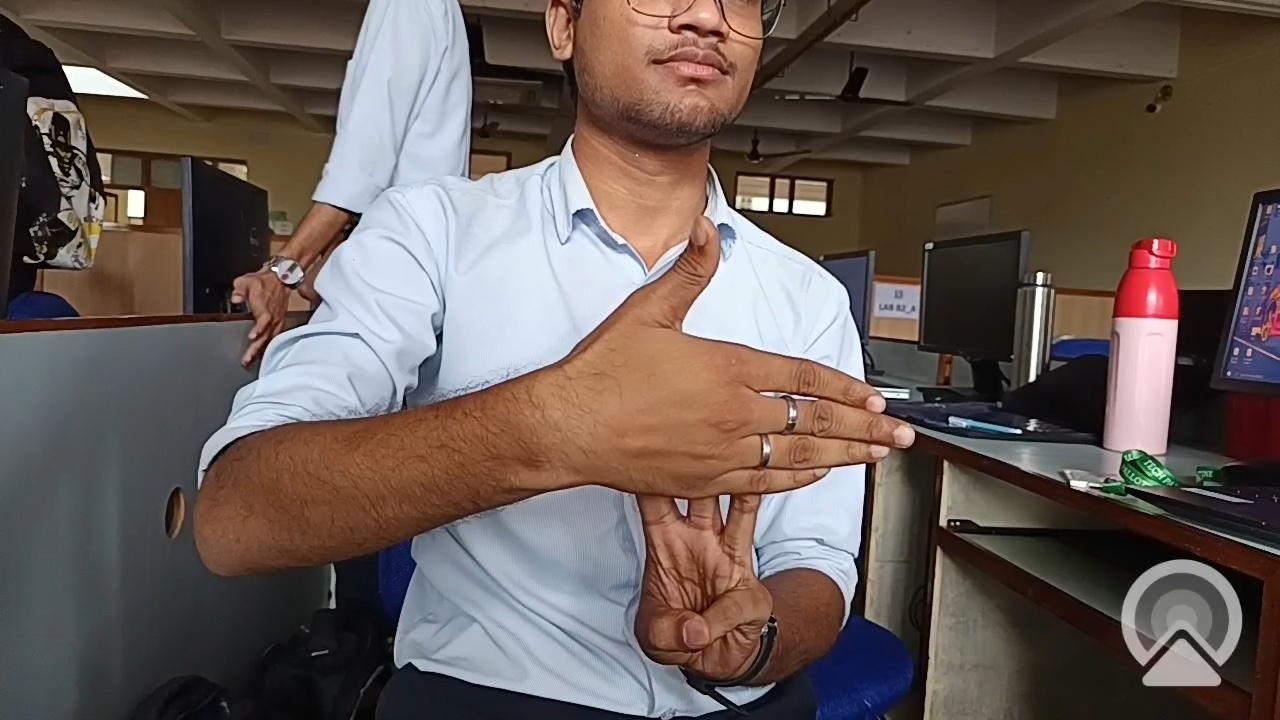M: (549, 202, 922, 680)
